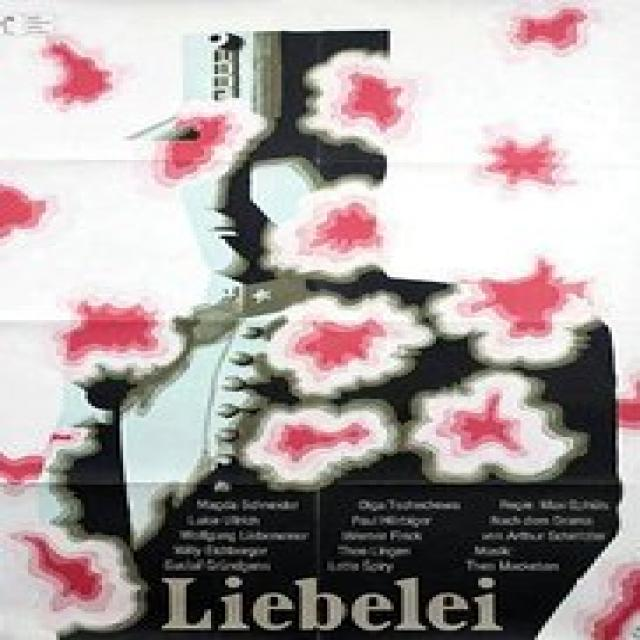movie-judul: (157, 572, 522, 636)
picture: (7, 31, 640, 489)
